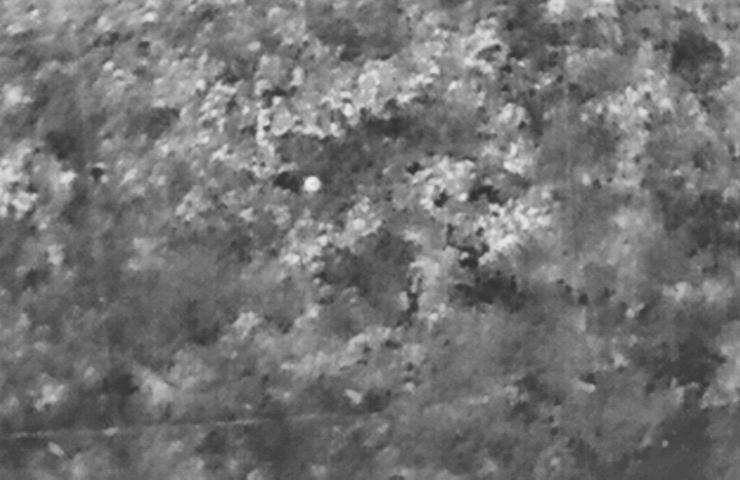landmines: (301, 173, 326, 197)
